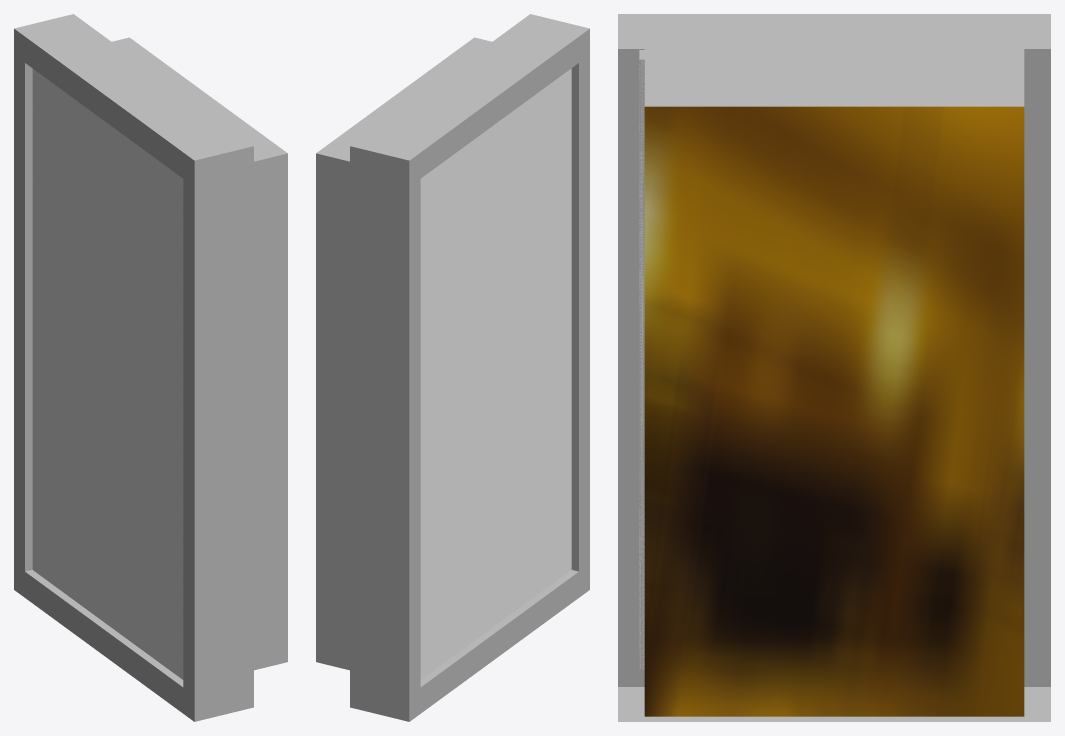
The model's file is VHUYTFRDESXCDVFGBHJUIUYTFRDCVBGHNJKIOUYGFDCXVFGHU.fbx.
3 renders of one model, left to right at view 1: azimuth 30°, elevation 25°; view 2: azimuth 150°, elevation 25°; view 3: azimuth 270°, elevation 25°, orthographic. The views are drawn at different scales.
Visible parts, largest first — view 1: polySurface5; view 2: polySurface5; view 3: polySurface6, polySurface5.
Part boxes in pixels (<box>): polySurface5: <box>14,14,287,721</box>; polySurface5: <box>316,14,589,721</box>; polySurface6: <box>644,106,1024,716</box>; polySurface5: <box>618,14,1050,721</box>.
Size of the model in its own units: 77.42 by 397 by 232.
